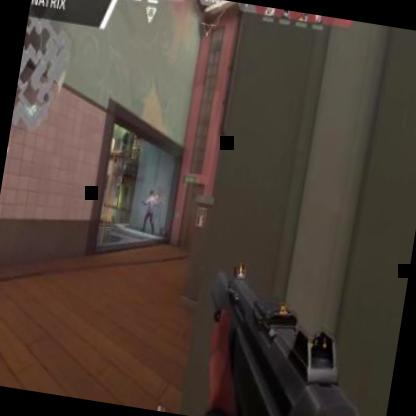enemy: (136, 184, 161, 235)
enemy_head: (148, 190, 153, 198)
